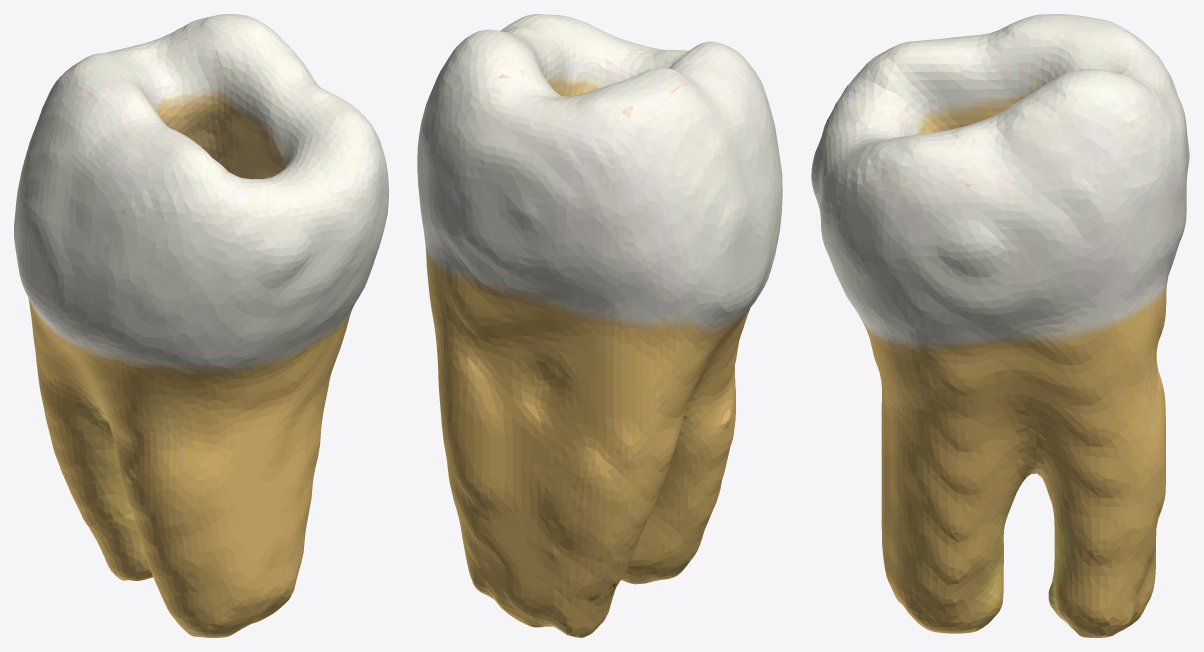
Rendered from root-canal.glb.
3 renders of one model, left to right at view 1: azimuth 30°, elevation 25°; view 2: azimuth 150°, elevation 25°; view 3: azimuth 270°, elevation 25°, orthographic. The views are drawn at different scales.
Visible parts, largest first — view 1: Object_2; view 2: Object_2; view 3: Object_2.
Part boxes in pixels (box(x1,y1,x2,y2)): Object_2: box(14, 14, 388, 637); Object_2: box(417, 14, 782, 637); Object_2: box(811, 14, 1189, 637).
Size of the model in its own units: 11.1 by 19.16 by 11.2.
1 material, 1 textured.
